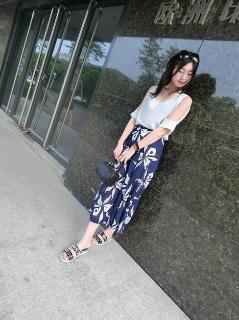long sleeve top: (131, 85, 192, 141)
skirt: (88, 121, 167, 236)
